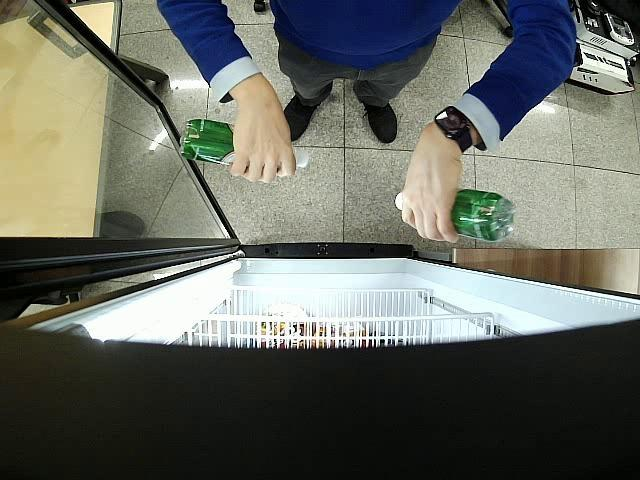18_trevi: (395, 188, 515, 243), (181, 118, 307, 170)
